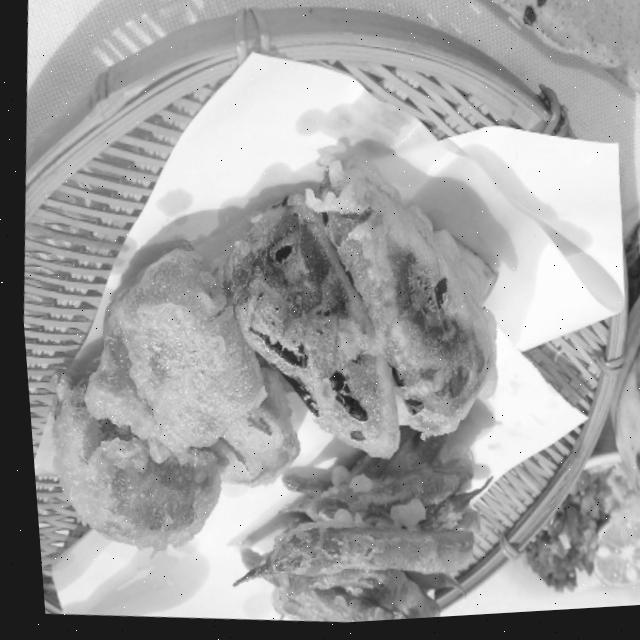蔬菜料理: (8, 111, 560, 640)
